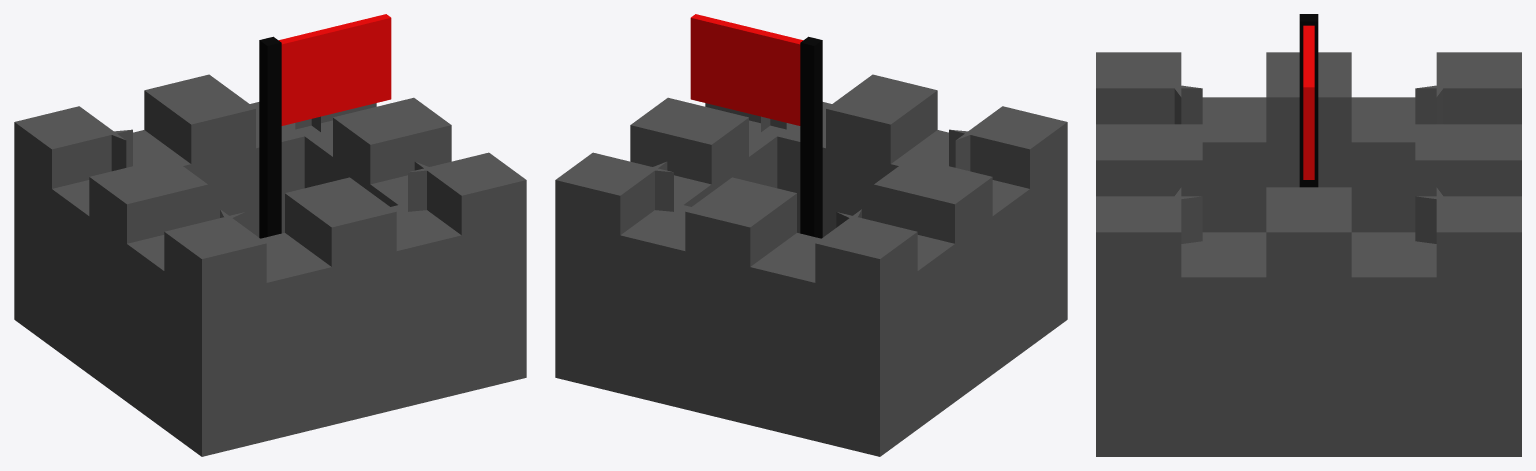
The model's file is Castle.fbx.
3 views of the same model, side by side, from view 1: azimuth 30°, elevation 25°; view 2: azimuth 150°, elevation 25°; view 3: azimuth 270°, elevation 25° (orthographic). The views are drawn at different scales.
Parts seen in each view (by area): view 1: Cube, Cube.001, Cube.002; view 2: Cube, Cube.001, Cube.002; view 3: Cube, Cube.002, Cube.001.
Part boxes in pixels (x1,y1,x2,y2): Cube: [14, 74, 526, 456]; Cube.001: [279, 14, 391, 125]; Cube.002: [259, 36, 281, 238]; Cube: [555, 74, 1067, 456]; Cube.001: [690, 14, 802, 125]; Cube.002: [800, 36, 822, 238]; Cube: [1096, 52, 1521, 456]; Cube.002: [1299, 14, 1318, 187]; Cube.001: [1303, 25, 1314, 179].
Size of the model in its own units: 154 by 140 by 154.
